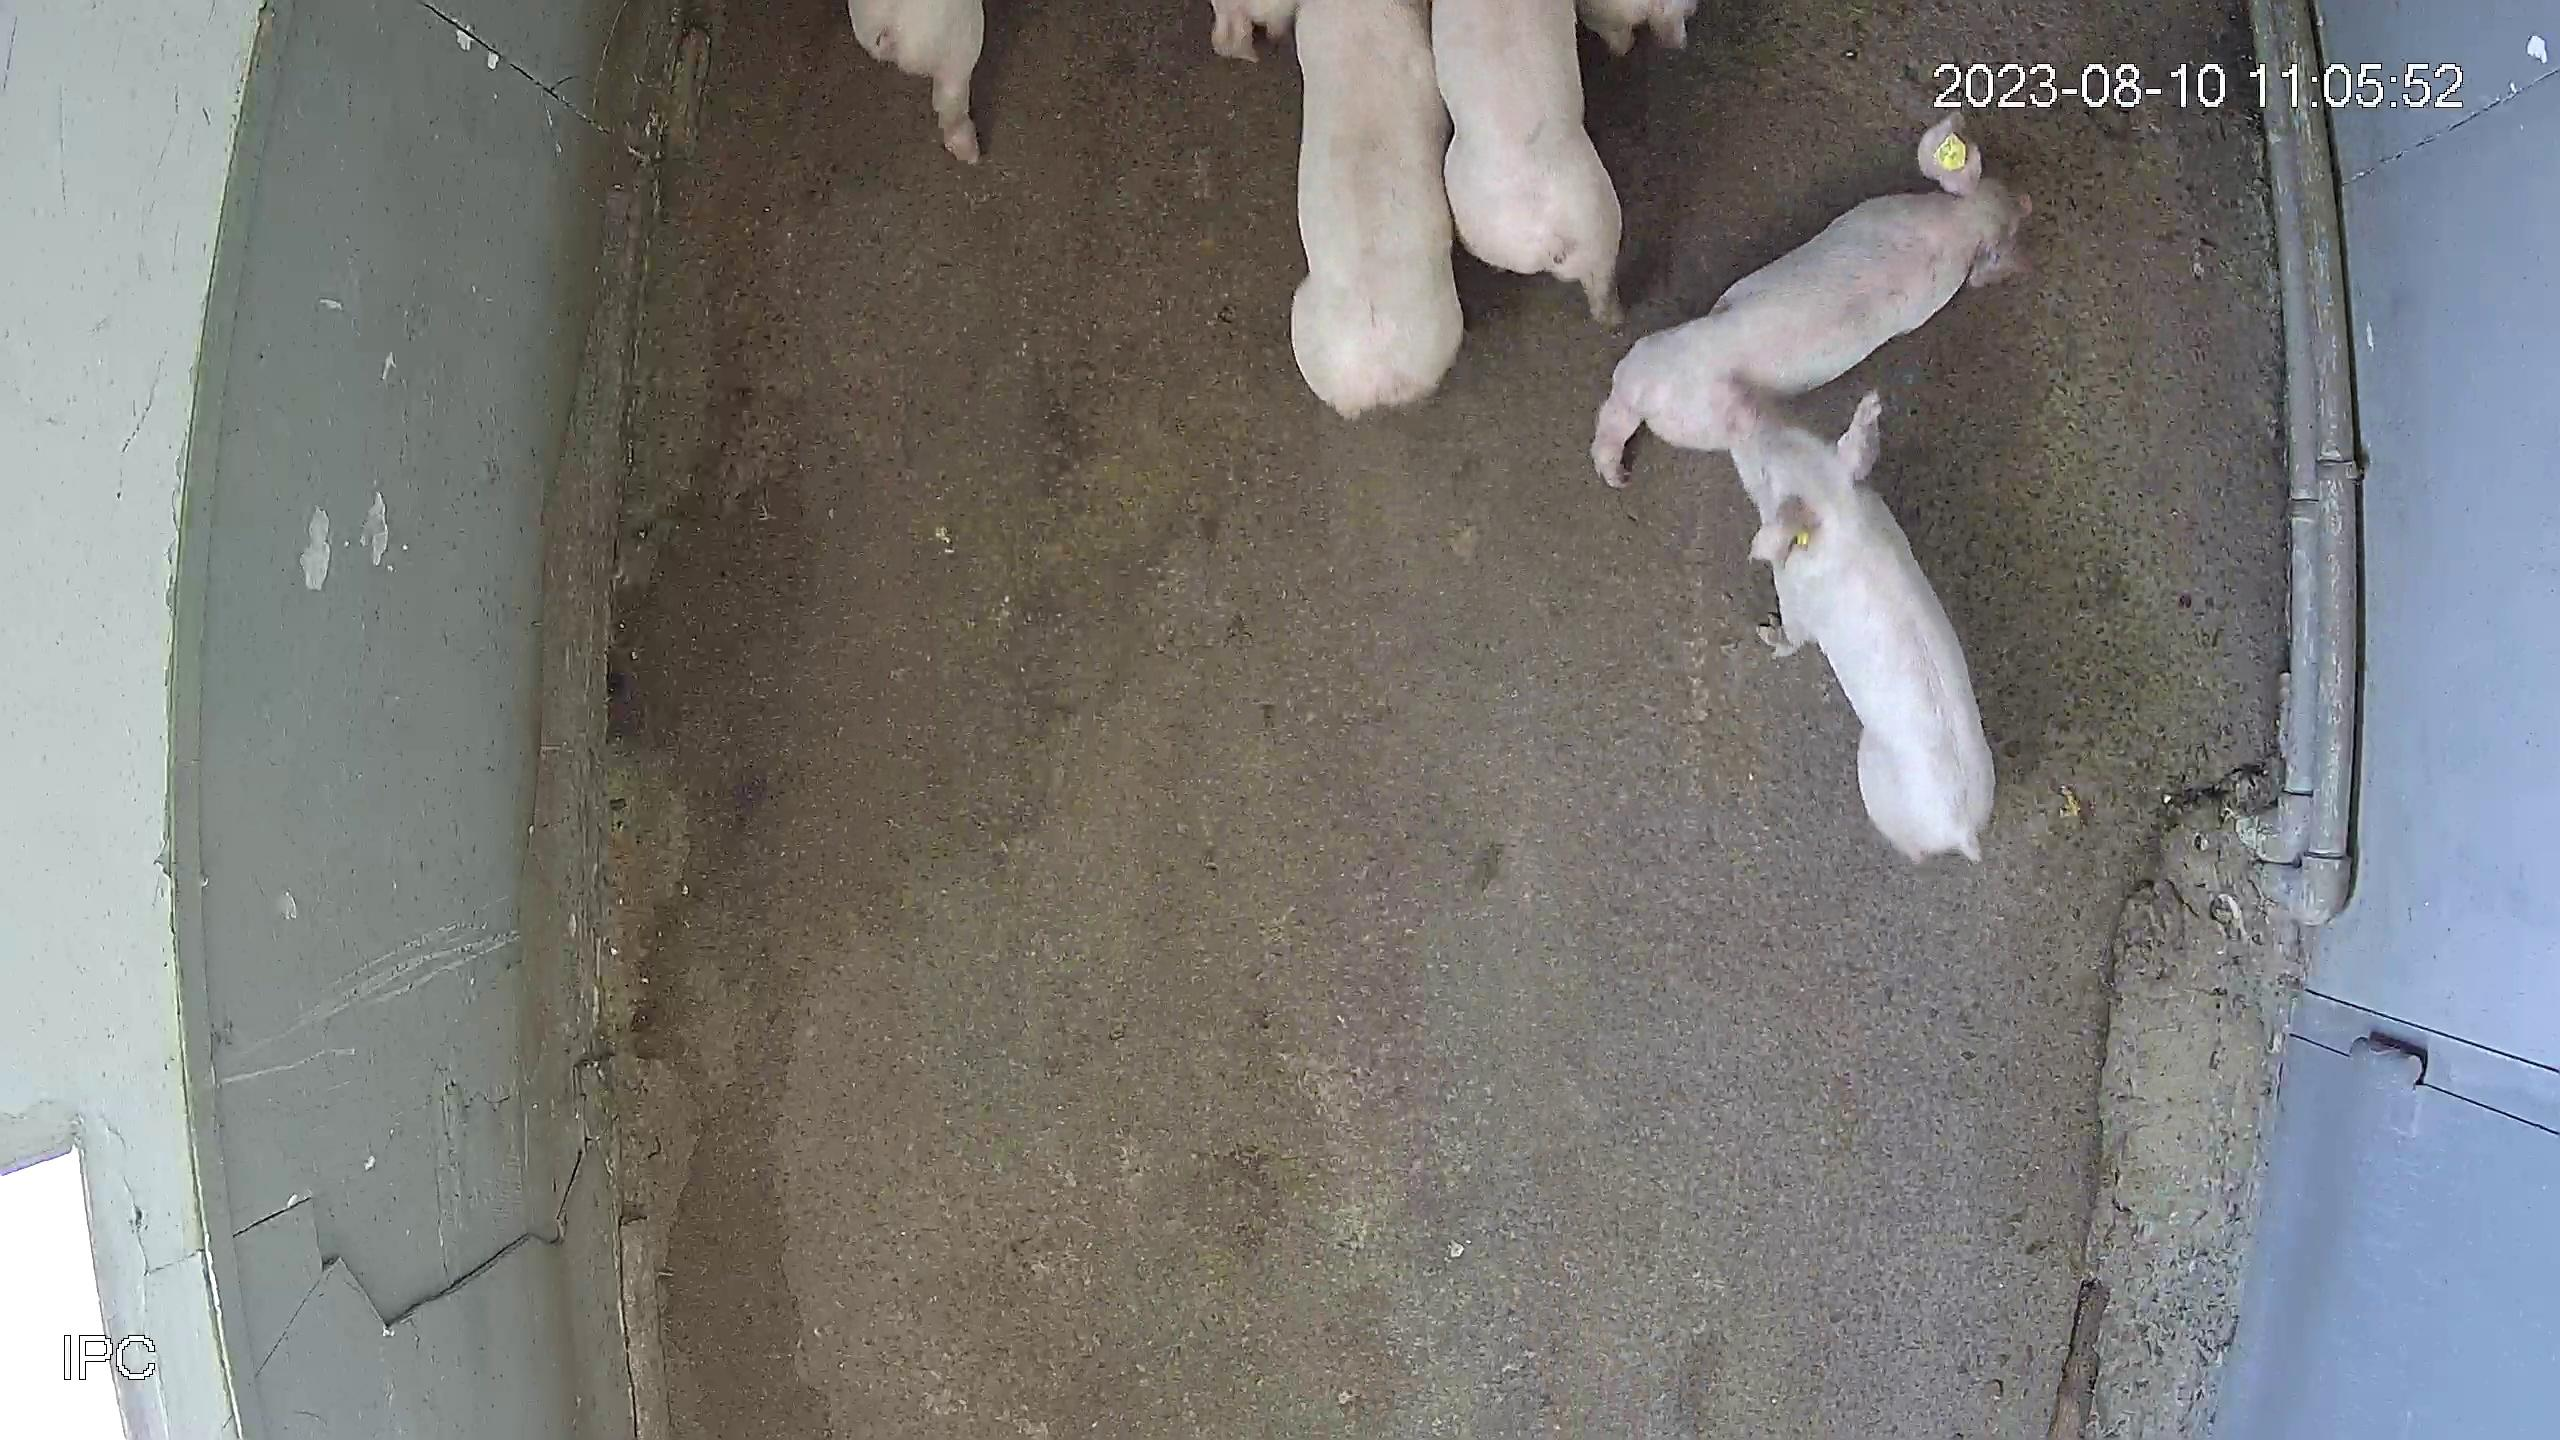Pig: (1595, 113, 2034, 484), (1734, 389, 1996, 860), (1294, 0, 1465, 413), (1435, 0, 1625, 324), (847, 0, 983, 160), (1577, 0, 1700, 51), (1211, 0, 1299, 58)
